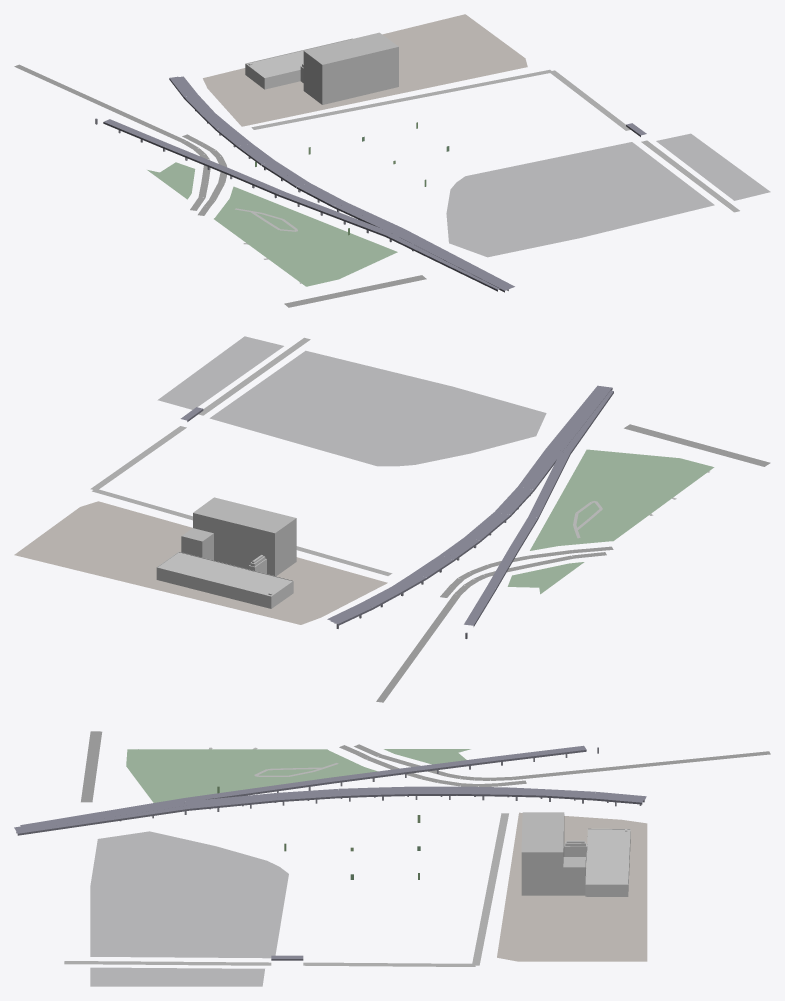
3 views of the same model, one above another, from view 1: azimuth 30°, elevation 25°; view 2: azimuth 150°, elevation 25°; view 3: azimuth 270°, elevation 25° (orthographic). The views are drawn at different scales.
Bounding box in the file's own units: 539 × 44.81 × 679.
